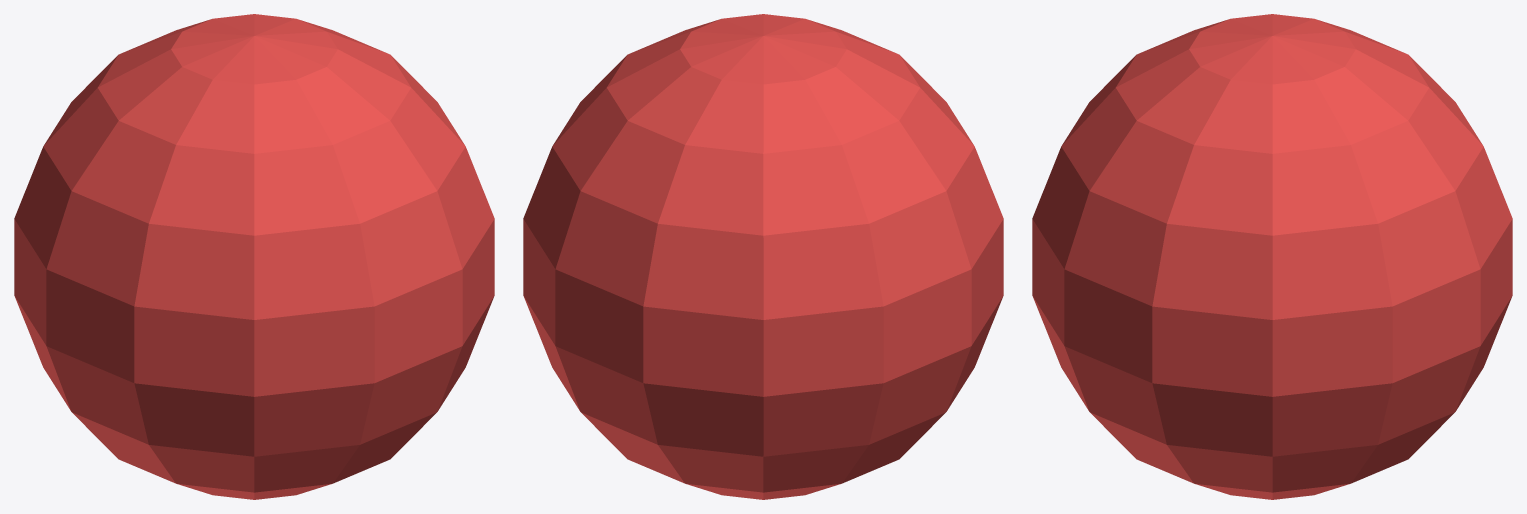
3 views of the same model, side by side, from view 1: azimuth 30°, elevation 25°; view 2: azimuth 150°, elevation 25°; view 3: azimuth 270°, elevation 25° (orthographic).
Visible parts, largest first — view 1: Sphere; view 2: Sphere; view 3: Sphere.
Part boxes in pixels (<box>): Sphere: <box>14,14,494,499</box>; Sphere: <box>523,14,1003,499</box>; Sphere: <box>1032,14,1512,499</box>.
Bounding box in the file's own units: 1.97 × 2 × 1.97.
